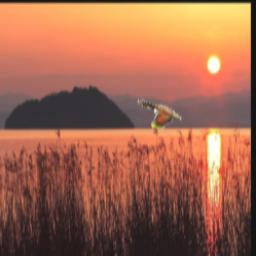Cuckoo: (139, 100, 183, 130)
